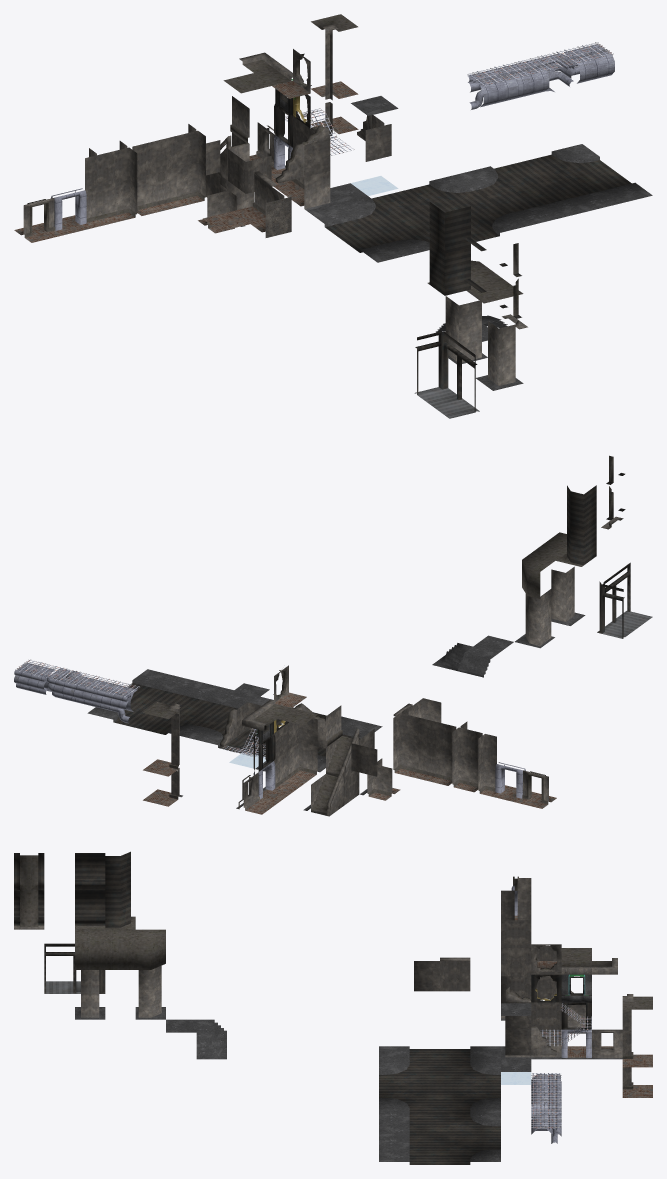
The model's file is grave_city_tiles.glb.
The picture shows the model from 3 angles, top to bottom: view 1: azimuth 30°, elevation 25°; view 2: azimuth 150°, elevation 25°; view 3: azimuth 270°, elevation 25°; orthographic projection. The views are drawn at different scales.
Visible parts, largest first — view 1: 19_city_road_00_intersection_3-col, 00_city_road_00_intersection_4-col, 01_city_road_00-col, 05_city_scraper_bottom_support_corner-col, 06_city_scraper_bottom_support-col, 13_city_scraper_corner_base-col, 16_city_scraper_corner-col, 59_city_pipe_walkway_start, 11_city_scraper_bottom_wall_outer_corner-col, 63_city_pipe_walkway_end, 36_city_ruined_building_00_floor_inner_wall-col, 38_city_ruined_building_00_floor_inner_wall_3way-col (+26 smaller); view 2: 19_city_road_00_intersection_3-col, 00_city_road_00_intersection_4-col, 05_city_scraper_bottom_support_corner-col, 06_city_scraper_bottom_support-col, 28_city_ruined_building_00_wall_ground_stairs-col, 13_city_scraper_corner_base-col, 59_city_pipe_walkway_start, 16_city_scraper_corner-col, 11_city_scraper_bottom_wall_outer_corner-col, 29_city_ruined_building_00_wall_stairs-col, 63_city_pipe_walkway_end, 20_city_ruined_building_00_wall_corner_ground-col (+27 smaller); view 3: 19_city_road_00_intersection_3-col, 00_city_road_00_intersection_4-col, 01_city_road_00-col, 05_city_scraper_bottom_support_corner-col, 08_city_scraper_mid-col, 09_city_scraper_mid_pillar-col, 14_city_scraper_wall_base, 07_city_scraper_mid_support_corner-col, 15_city_scraper_wall_pillar_base-col, 17_city_scraper_wall_pillar-col, 18_city_scraper_wall-col, 06_city_scraper_bottom_support-col (+24 smaller).
Boxes of the visible parts, x1,y1,x2,y2 form: 19_city_road_00_intersection_3-col: [460, 144, 652, 225]; 00_city_road_00_intersection_4-col: [338, 174, 530, 255]; 01_city_road_00-col: [307, 203, 407, 262]; 05_city_scraper_bottom_support_corner-col: [445, 296, 487, 364]; 06_city_scraper_bottom_support-col: [476, 321, 523, 390]; 13_city_scraper_corner_base-col: [427, 243, 474, 295]; 16_city_scraper_corner-col: [429, 202, 470, 253]; 59_city_pipe_walkway_start: [467, 66, 518, 109]; 11_city_scraper_bottom_wall_outer_corner-col: [414, 329, 460, 405]; 63_city_pipe_walkway_end: [564, 42, 614, 83]; 36_city_ruined_building_00_floor_inner_wall-col: [146, 168, 184, 212]; 38_city_ruined_building_00_floor_inner_wall_3way-col: [85, 183, 122, 227]; 19_city_road_00_intersection_3-col: [87, 669, 246, 738]; 00_city_road_00_intersection_4-col: [192, 696, 356, 756]; 05_city_scraper_bottom_support_corner-col: [515, 589, 554, 648]; 06_city_scraper_bottom_support-col: [551, 566, 585, 625]; 28_city_ruined_building_00_wall_ground_stairs-col: [303, 766, 344, 816]; 13_city_scraper_corner_base-col: [556, 521, 596, 566]; 59_city_pipe_walkway_start: [96, 679, 140, 723]; 16_city_scraper_corner-col: [567, 485, 596, 529]; 11_city_scraper_bottom_wall_outer_corner-col: [597, 573, 637, 638]; 29_city_ruined_building_00_wall_stairs-col: [326, 728, 359, 777]; 63_city_pipe_walkway_end: [14, 659, 57, 694]; 20_city_ruined_building_00_wall_corner_ground-col: [289, 742, 321, 781]; 19_city_road_00_intersection_3-col: [379, 1110, 500, 1164]; 00_city_road_00_intersection_4-col: [379, 1059, 500, 1113]; 01_city_road_00-col: [379, 1046, 500, 1061]; 05_city_scraper_bottom_support_corner-col: [135, 965, 165, 1019]; 08_city_scraper_mid-col: [105, 929, 135, 969]; 09_city_scraper_mid_pillar-col: [75, 929, 105, 969]; 14_city_scraper_wall_base: [75, 890, 105, 929]; 07_city_scraper_mid_support_corner-col: [135, 929, 165, 969]; 15_city_scraper_wall_pillar_base-col: [14, 890, 44, 929]; 17_city_scraper_wall_pillar-col: [14, 853, 44, 891]; 18_city_scraper_wall-col: [75, 853, 105, 889]; 06_city_scraper_bottom_support-col: [75, 970, 105, 1019].
Size of what is drawn, in the model's own units: 39.3 by 12 by 42.
6 materials, 6 textured.
